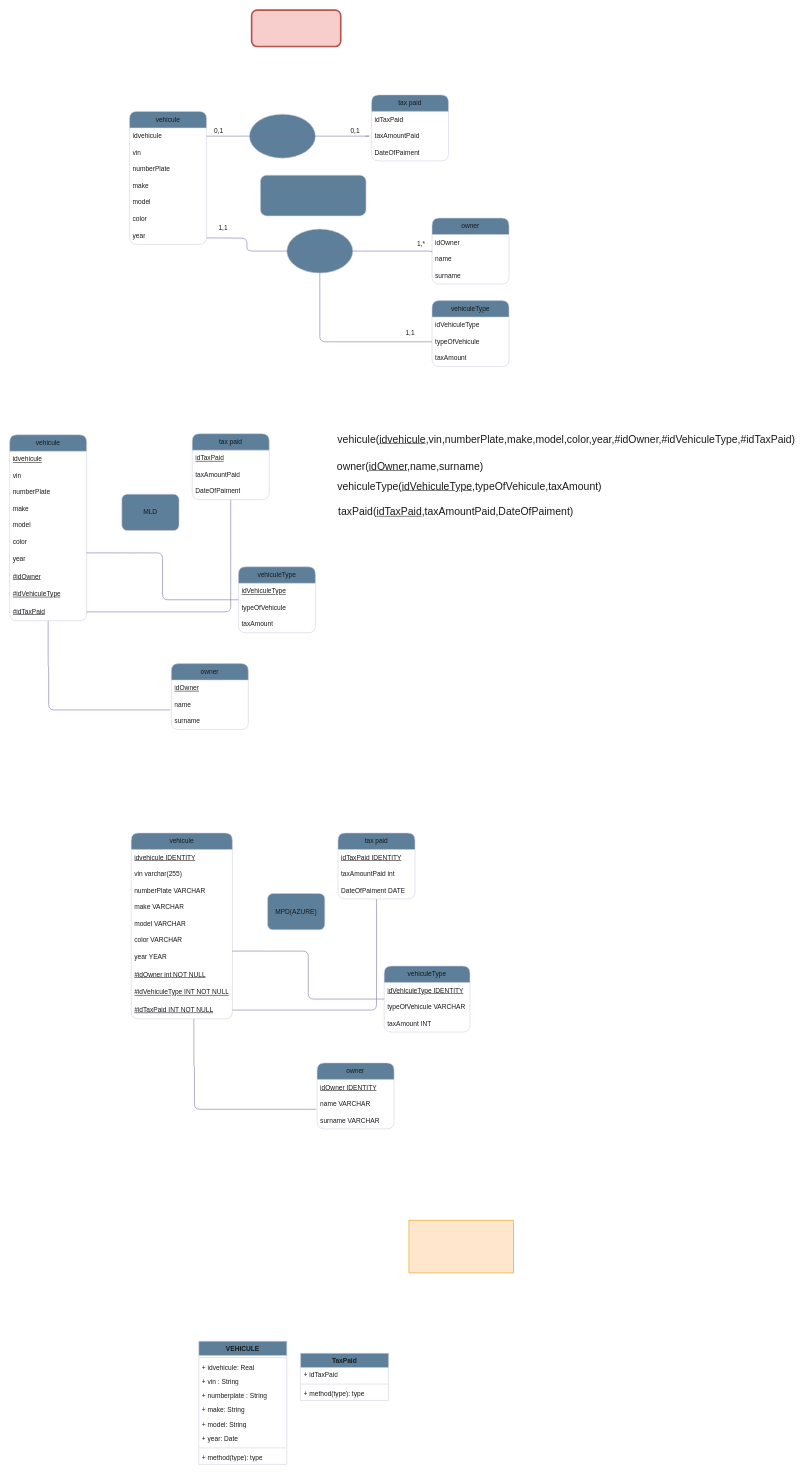
Some shapes in this 806 by 1476 pixel diagram are drawn without their labels. The shapes that lost their labels are listed below. From the top down, each one's box as (x1, y1, x2, y2) in pixels, then its label:
(251, 9, 341, 47): merise
(249, 114, 315, 158): PAYER
(260, 175, 366, 216): MCD
(286, 229, 353, 273): POSSEDE
(408, 1220, 513, 1273): UML
